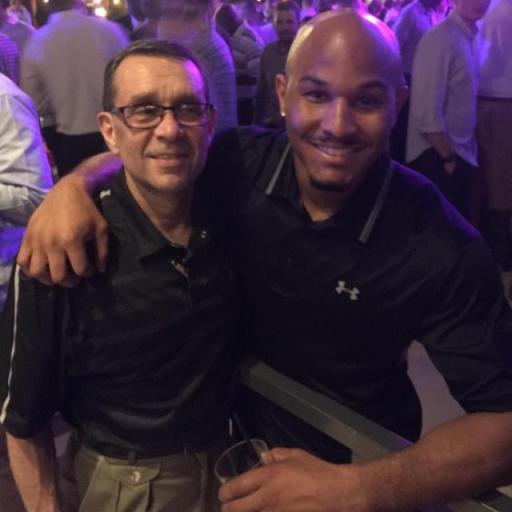Under Armour: (331, 275, 363, 303)
